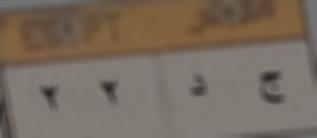2: (93, 76, 128, 115), (37, 82, 65, 115)
daal: (183, 67, 213, 104)
jeem: (257, 62, 288, 108)
